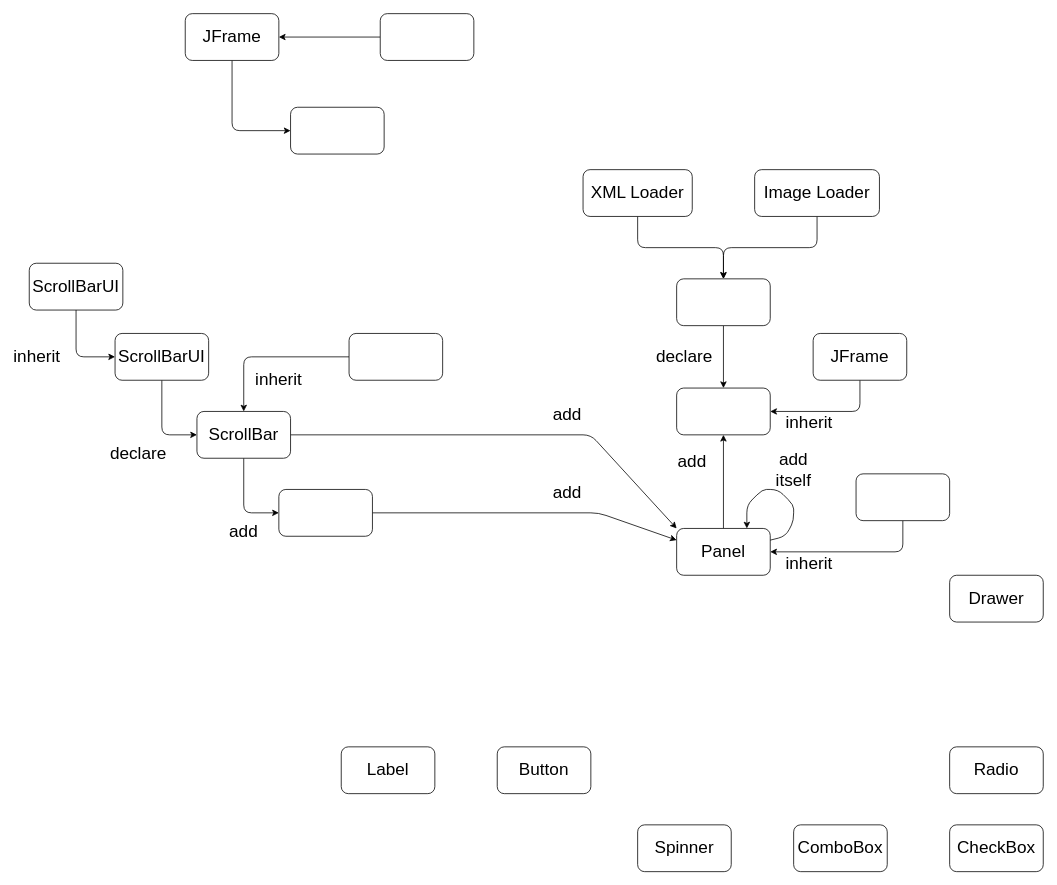
The diagram is 1057 pixels wide and 885 high, and some of its shapes have lost their labels. Here are the shapes that lost their labels. From the top down, the box of each, then its label:
(379, 13, 474, 60): MenuItem
(290, 106, 384, 154): JMenu
(676, 278, 770, 326): Theme
(348, 333, 443, 380): JScrollBar
(676, 387, 770, 435): Frame
(278, 489, 372, 536): ScrollPanel
(855, 473, 950, 521): JPanel
